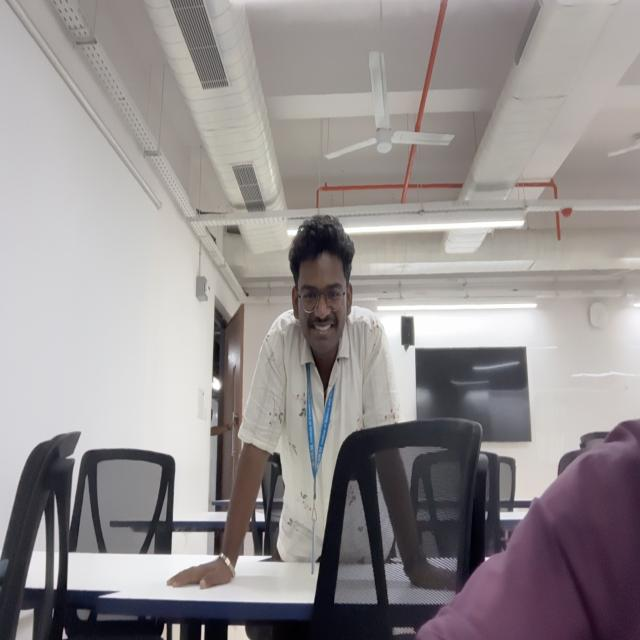sai: (289, 209, 355, 347)
